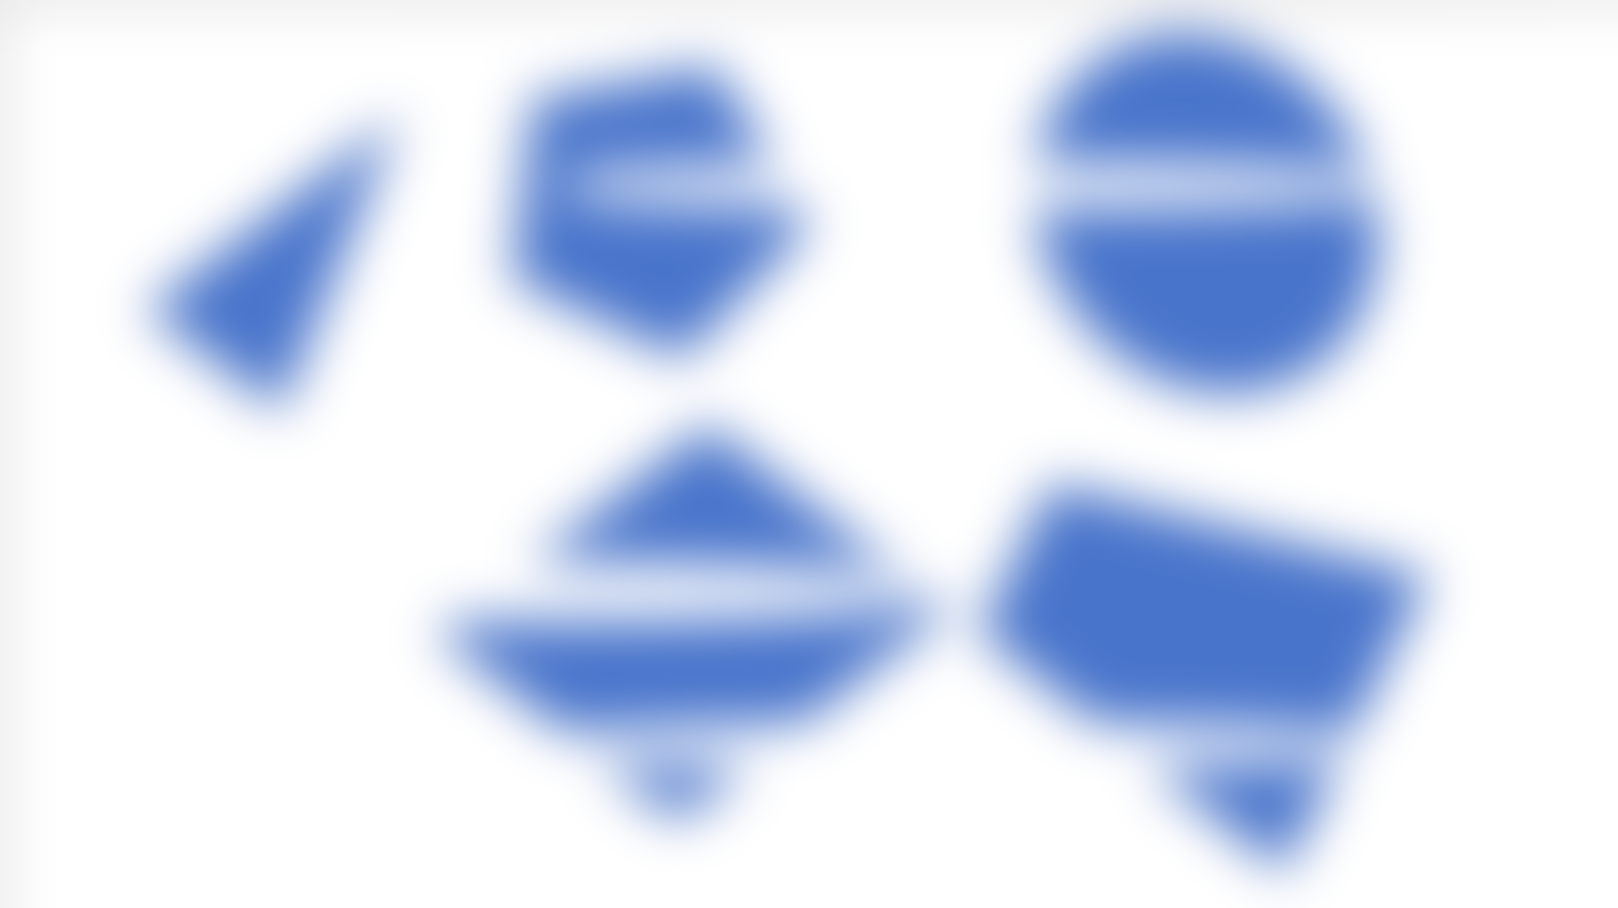circle: (992, 14, 1464, 433)
parallelogram: (429, 413, 942, 832)
pentagon: (488, 58, 845, 383)
trapezium: (973, 463, 1458, 888)
triangle: (134, 119, 439, 413)
